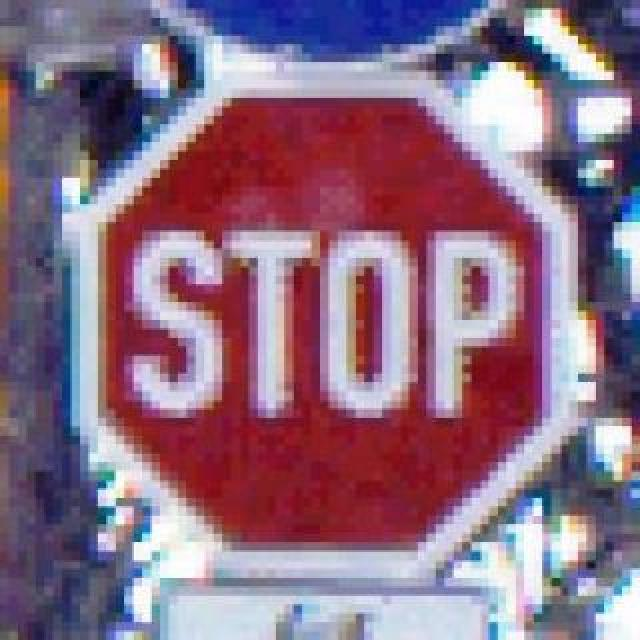stop: (72, 54, 560, 570)
